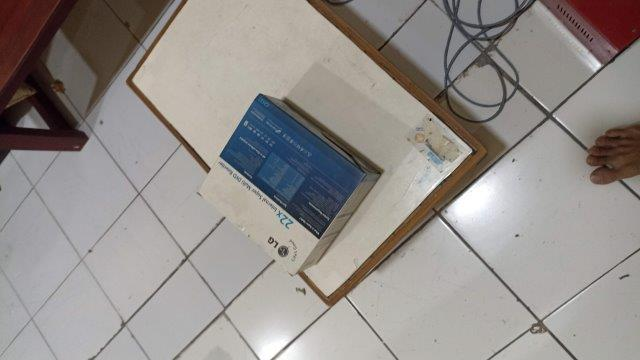kardus: (197, 94, 380, 276)
